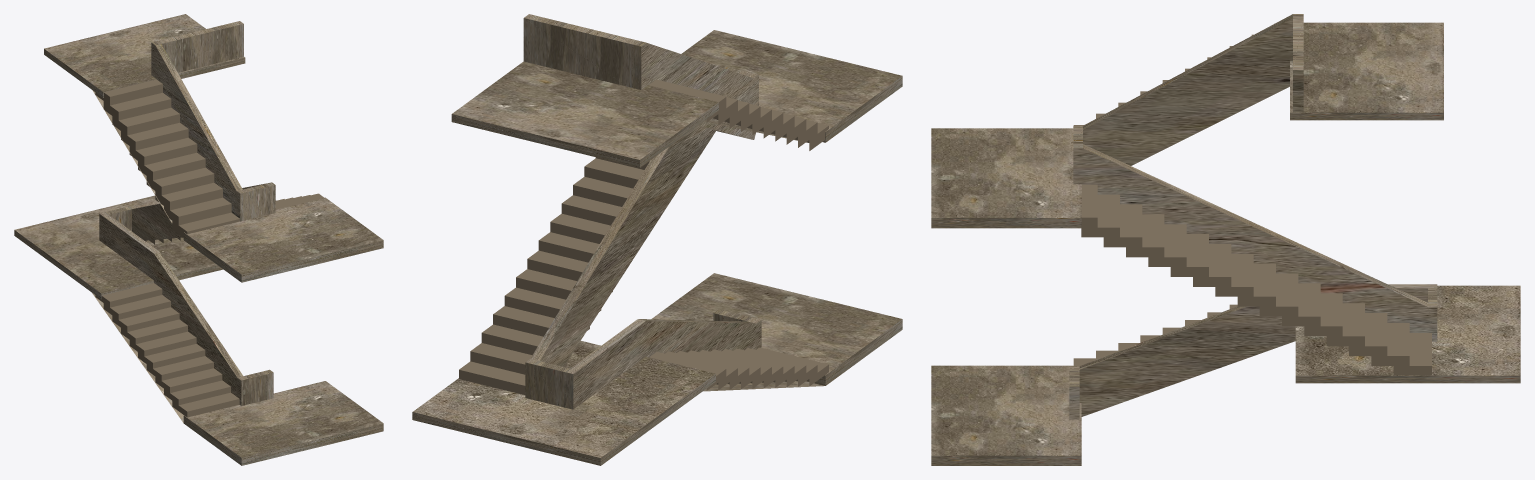
Rendered from stairway.glb.
3 renders of one model, left to right at view 1: azimuth 30°, elevation 25°; view 2: azimuth 150°, elevation 25°; view 3: azimuth 270°, elevation 25°, orthographic. The views are drawn at different scales.
Visible parts, largest first — view 1: Cube.127_9; view 2: Cube.127_9; view 3: Cube.127_9.
Part boxes in pixels (box(x1,y1,x2,y2)): Cube.127_9: box(14, 14, 383, 465); Cube.127_9: box(412, 14, 902, 465); Cube.127_9: box(931, 14, 1520, 465).
Bounding box in the file's own units: 2.66 × 5.53 × 7.37.
Materials: 1 (1 with a texture image).
